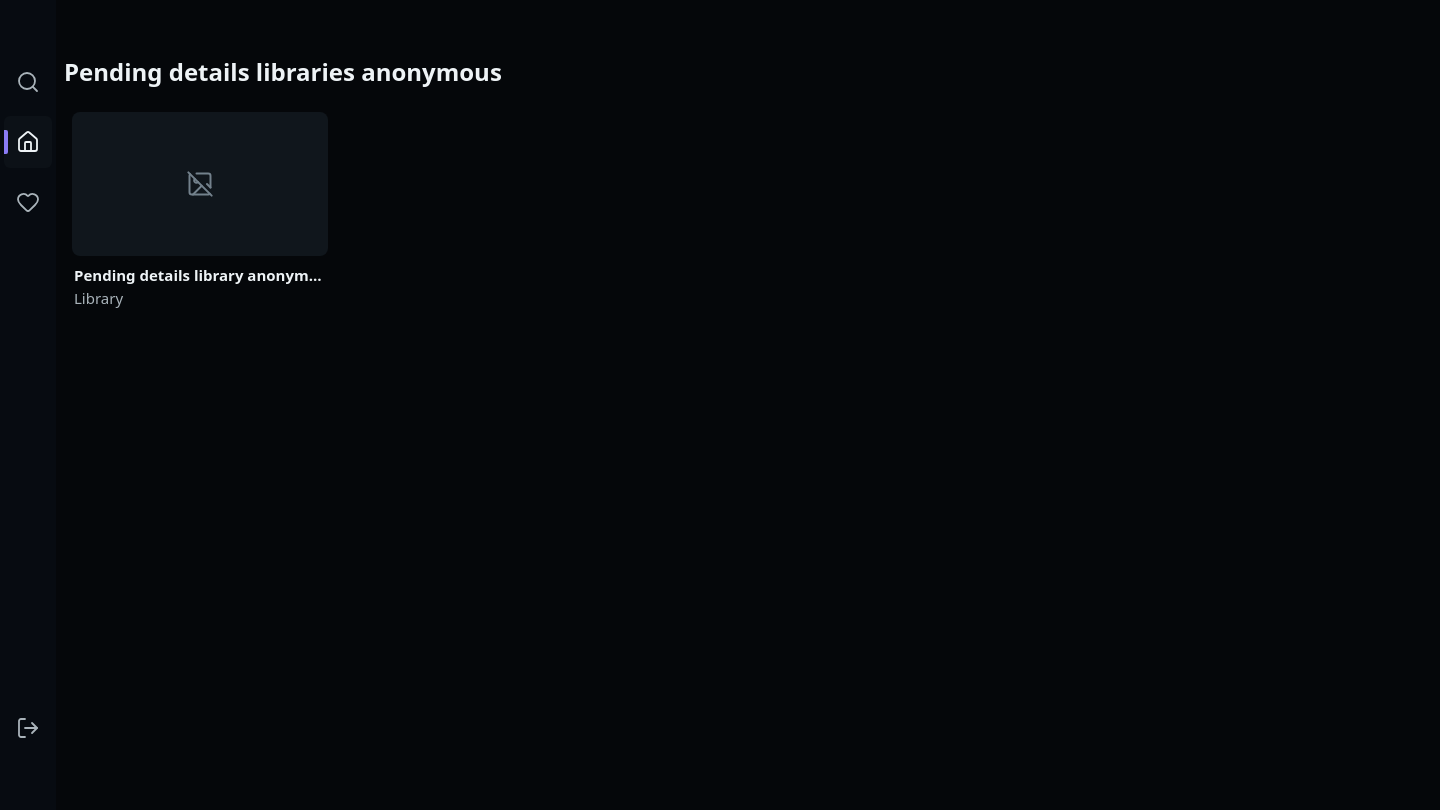
Test case: App browse route integration › clears pending Details busy state when Library Escape wins Back
Click the button with aria-label "Open Pending details library anonymous": (200, 210) [64,104,336,316]
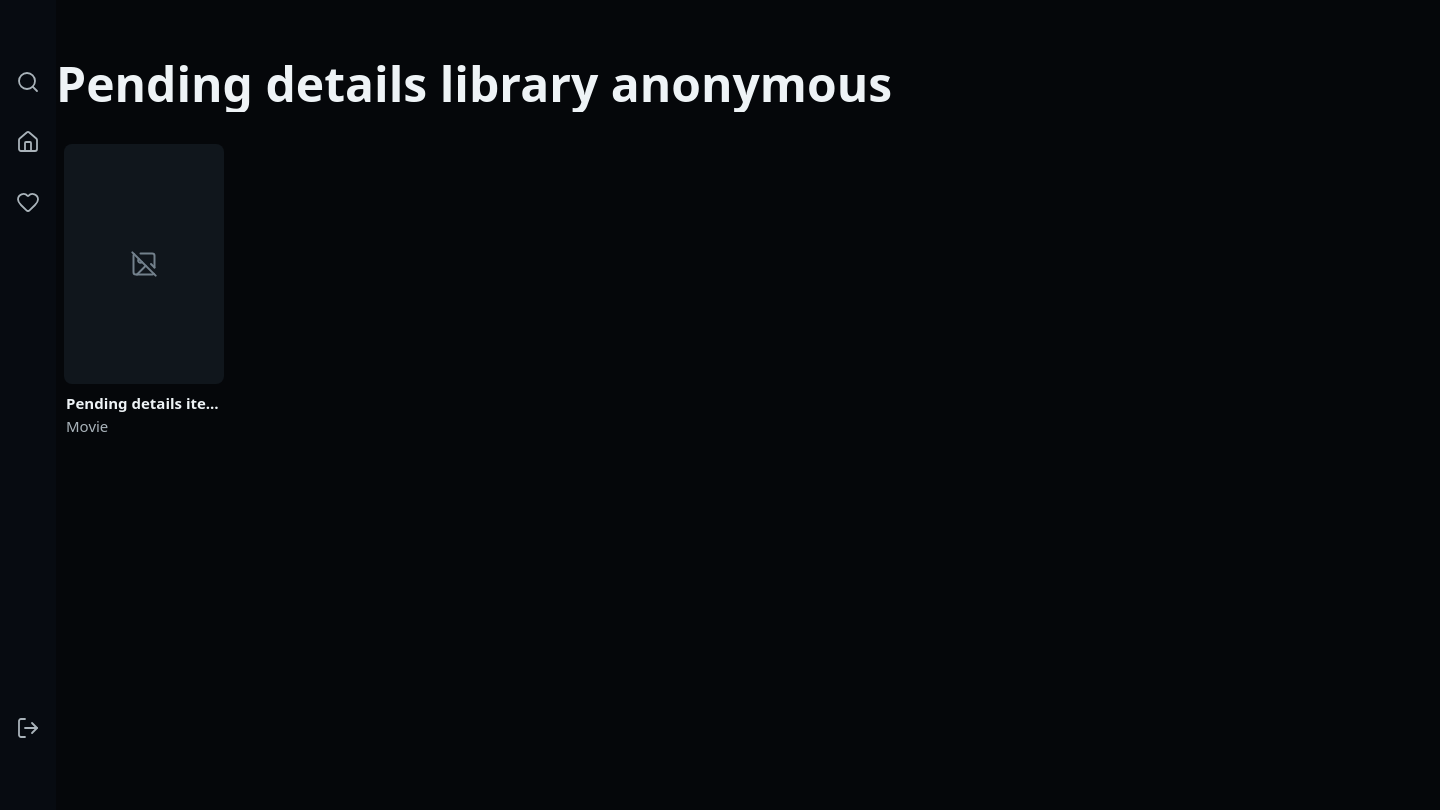
Click the button with aria-label "Open Pending details item anonymous": (144, 290) [56,136,232,444]
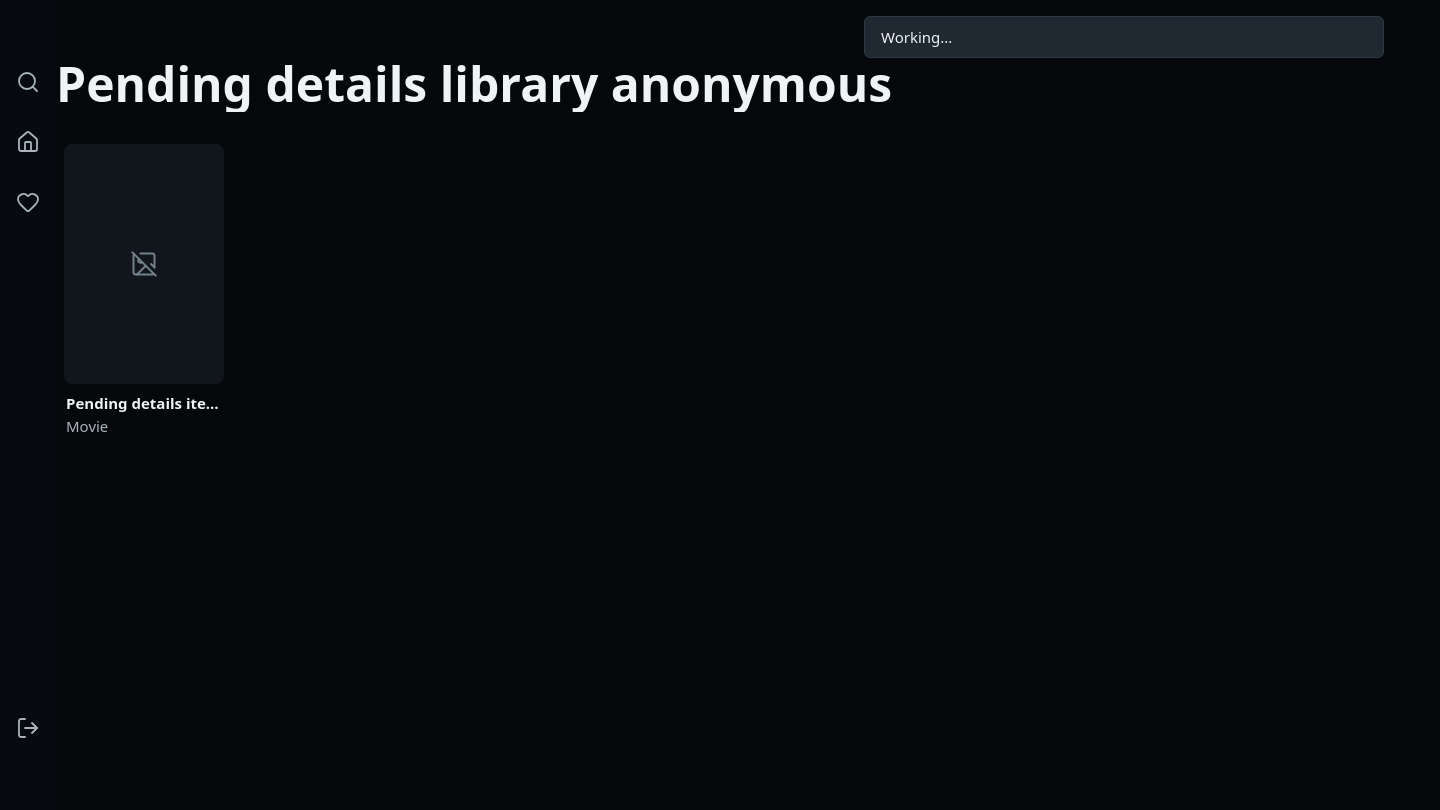
Check: the text "Working..." is shown, box [864,16,1384,58]
Press Escape in the button with aria-label "Open Pending details item anonymous", box [56,136,232,444]
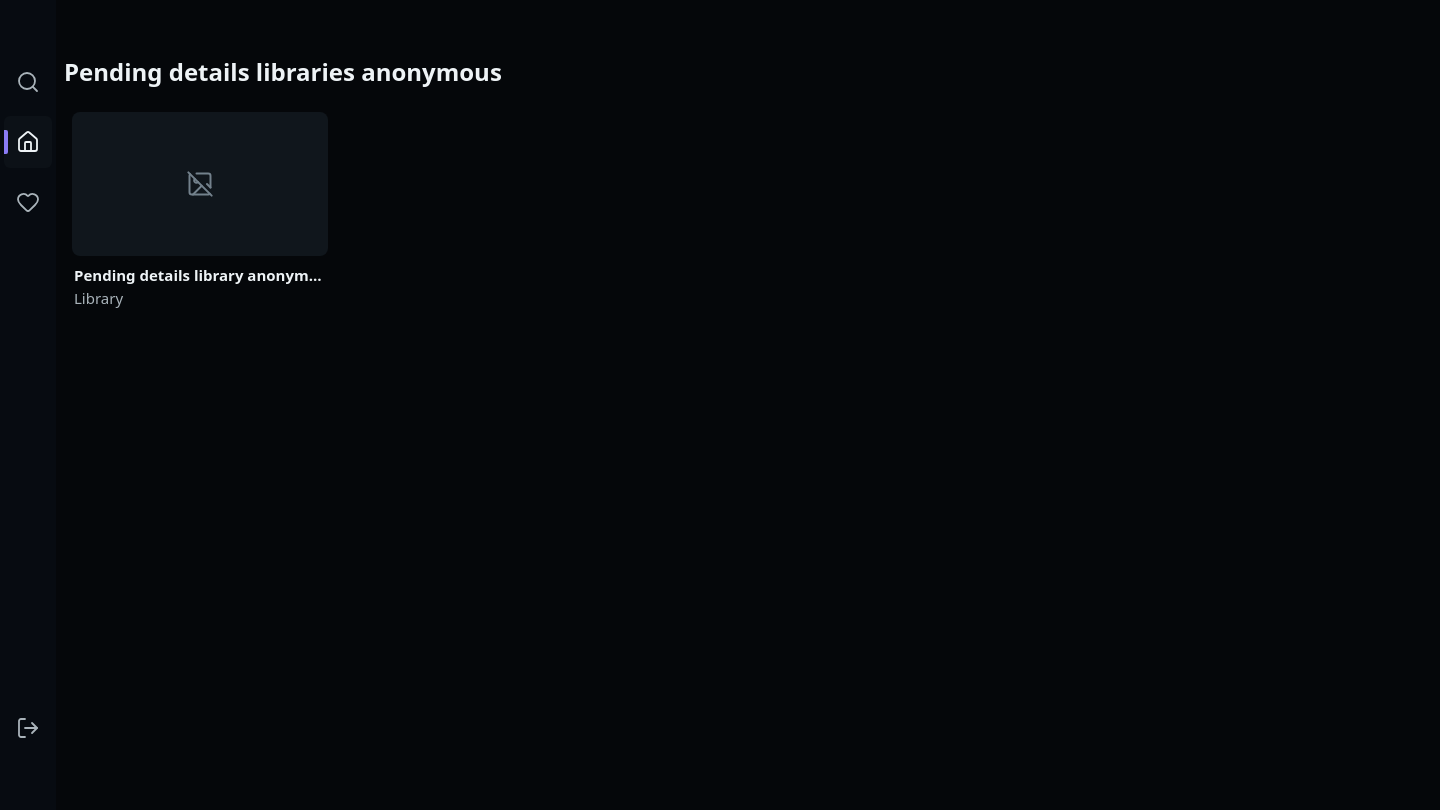
Check: the button with aria-label "Open Pending details library anonymous" is shown, box [64,104,336,316]
Check: the text "Working..." is gone
